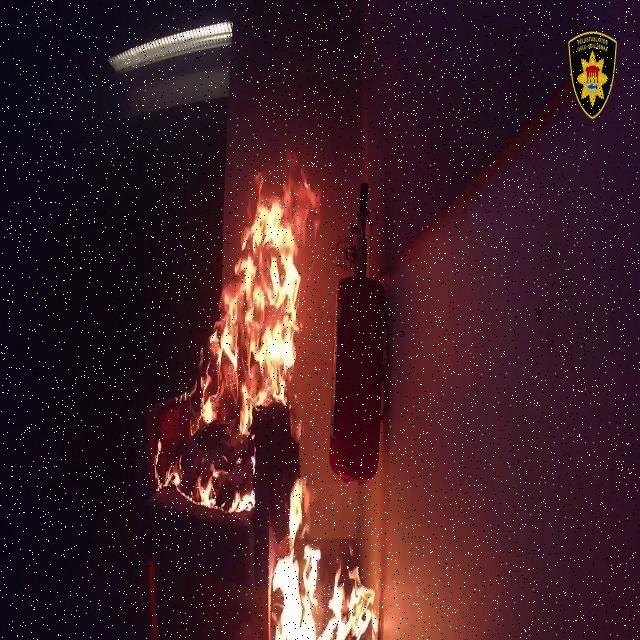fire: (192, 177, 318, 413), (275, 476, 405, 640), (154, 433, 278, 520)
